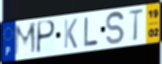K: (63, 17, 79, 50)
L: (83, 16, 100, 48)
M: (13, 21, 38, 58)
P: (35, 19, 57, 55)
S: (105, 11, 126, 46)
T: (127, 7, 145, 43)
